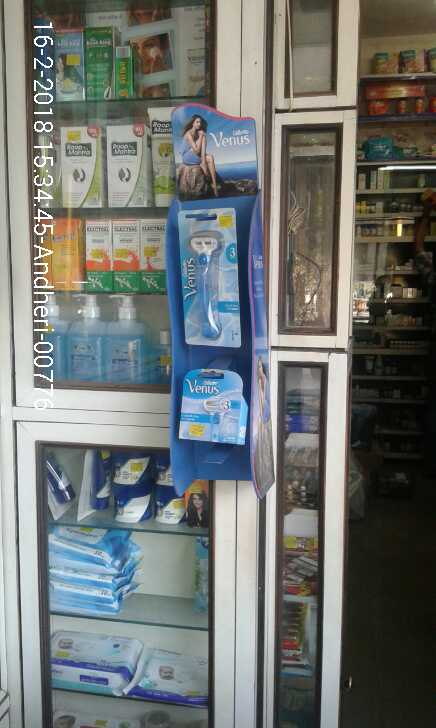venus: (174, 209, 244, 359), (178, 363, 253, 448)
